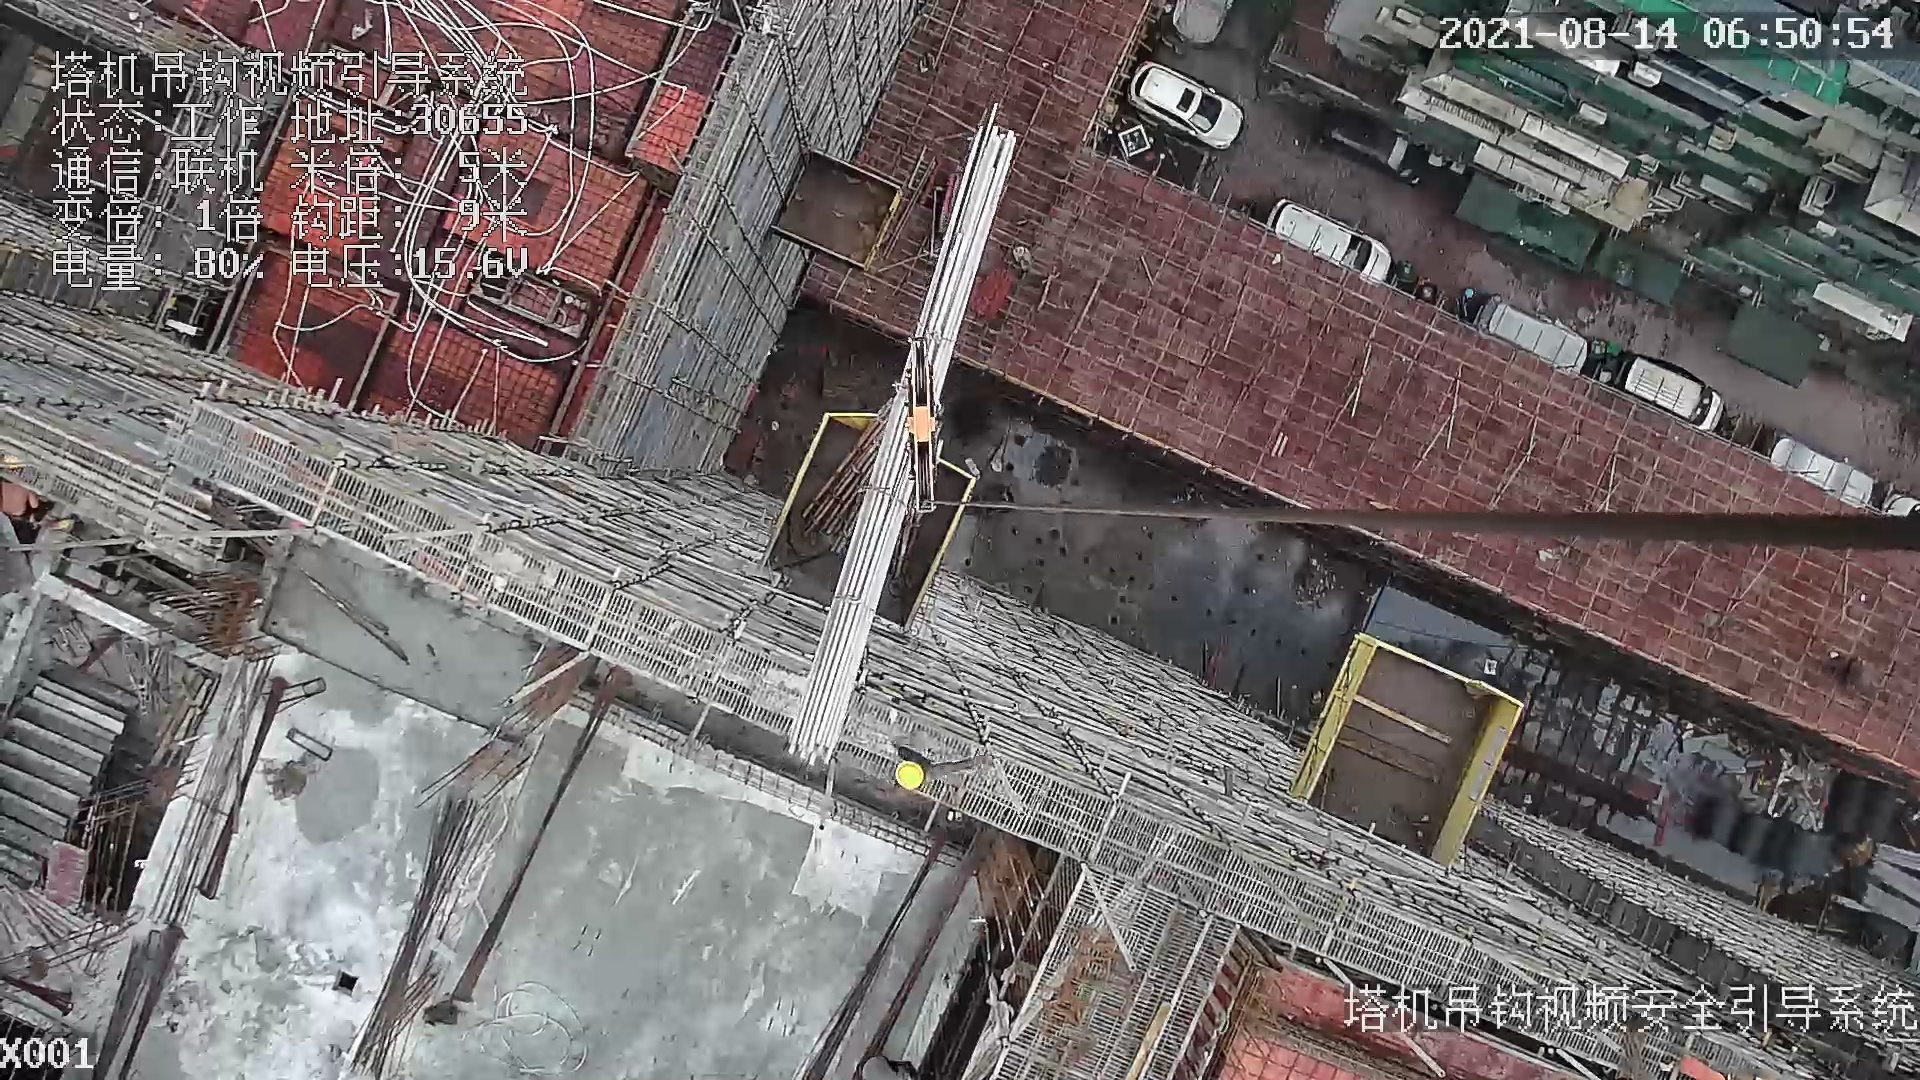helmet: (891, 755, 925, 797)
hook: (895, 333, 946, 519)
person: (876, 746, 999, 808), (1, 449, 61, 538)
